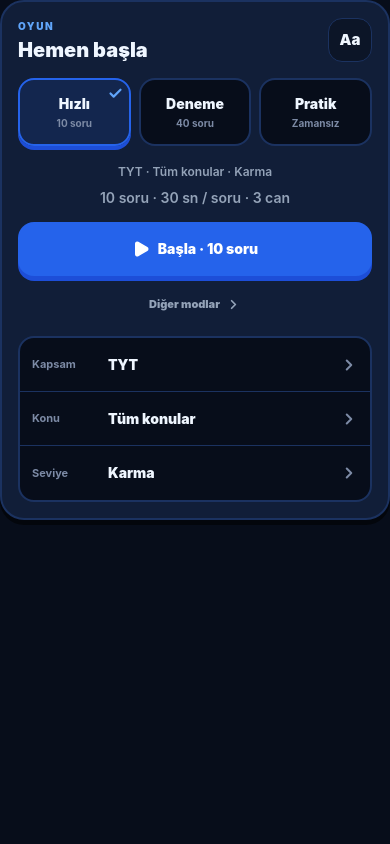
Scenario: MobileLobbyFlow › konuyu sayfayı uzatmadan tek seçimlik alt panelde değiştirir
Click the button with aria-label "Konu seç: Tüm konular": (195, 419) [20,392,370,446]
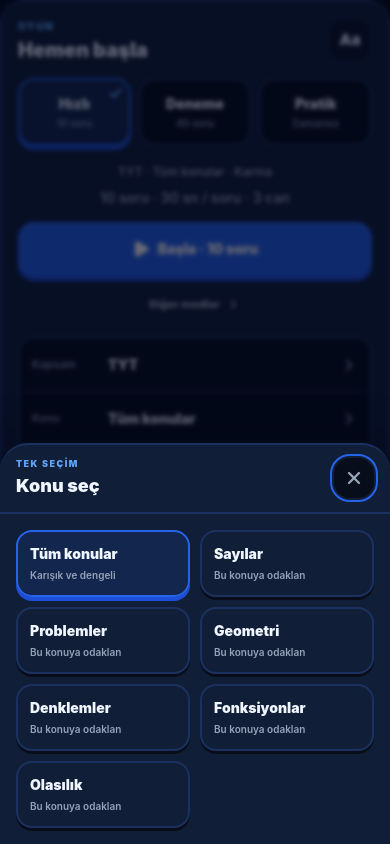
Click the button "Problemler Bu konuya odaklan": (103, 640) [16,607,190,674]
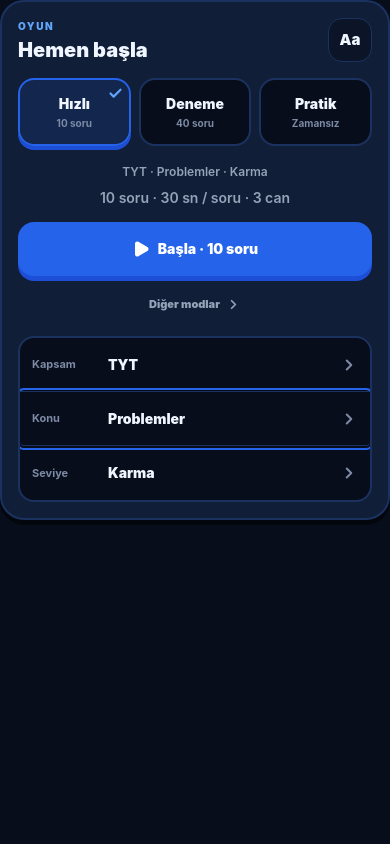
Check: the heading "Konu seç" is gone
Check: the button with aria-label "Konu seç: Problemler" is shown, box [20,392,370,446]
